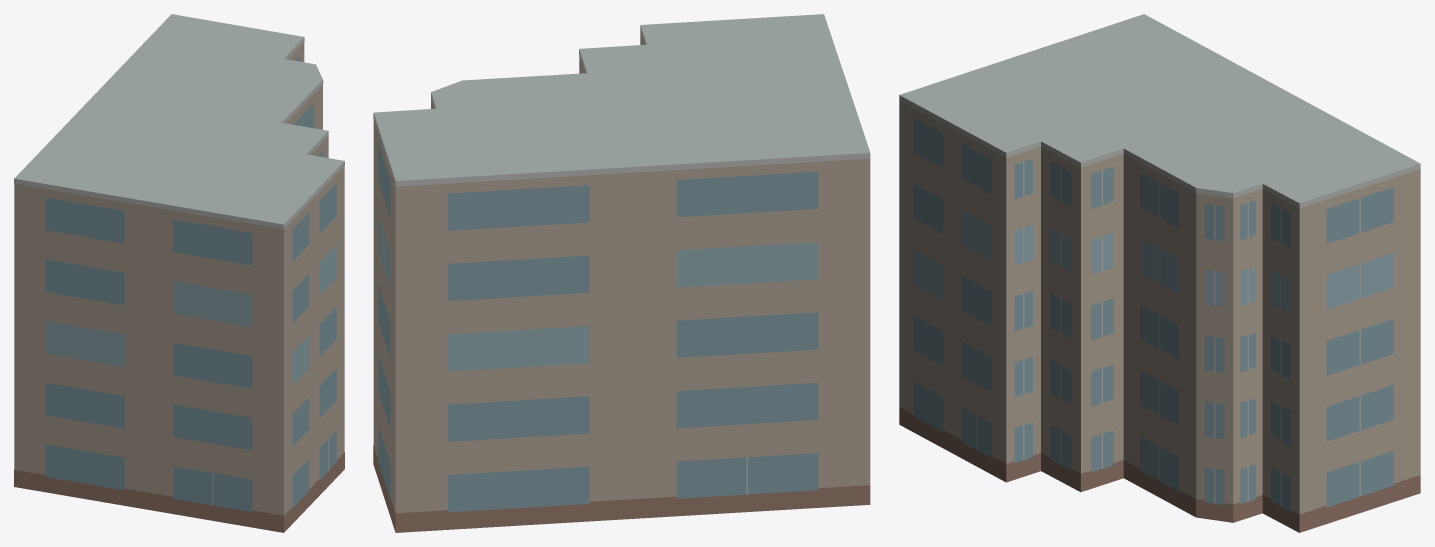
Rendered from survey-upis-32848093.glb.
3 views of the same model, side by side, from view 1: azimuth 30°, elevation 25°; view 2: azimuth 150°, elevation 25°; view 3: azimuth 270°, elevation 25° (orthographic). The views are drawn at different scales.
Parts seen in each view (by area): view 1: survey-upis-32848093.tmp; view 2: survey-upis-32848093.tmp; view 3: survey-upis-32848093.tmp.
Boxes of the visible parts, x1,y1,x2,y2 form: survey-upis-32848093.tmp: [14, 14, 344, 532]; survey-upis-32848093.tmp: [373, 14, 870, 532]; survey-upis-32848093.tmp: [899, 14, 1420, 532].
Size of the model in its own units: 18.85 by 15.3 by 21.94.
